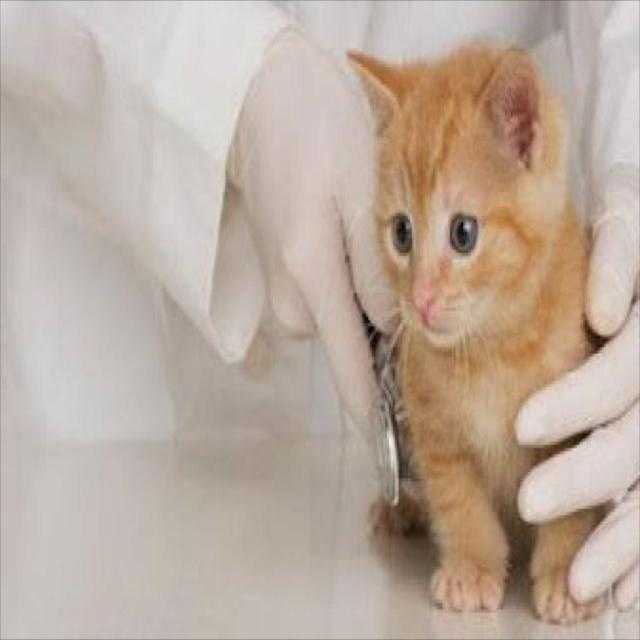Cat: (343, 34, 613, 625)
